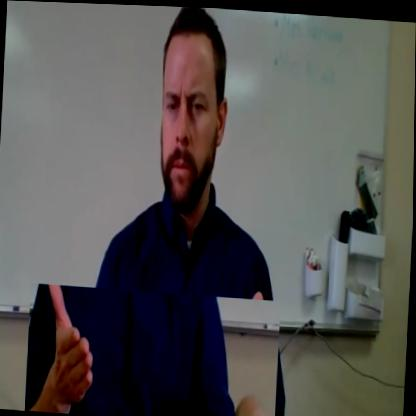Expensive: (26, 283, 282, 416)
